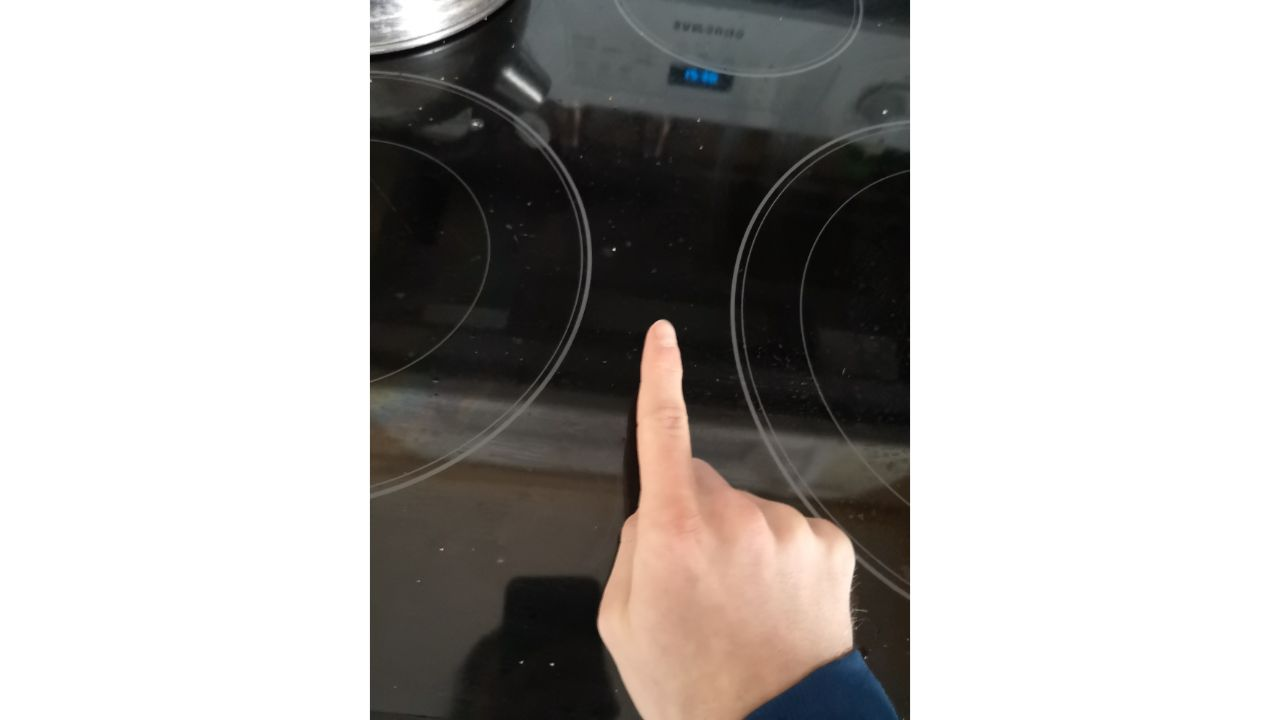finger: (592, 312, 866, 716)
